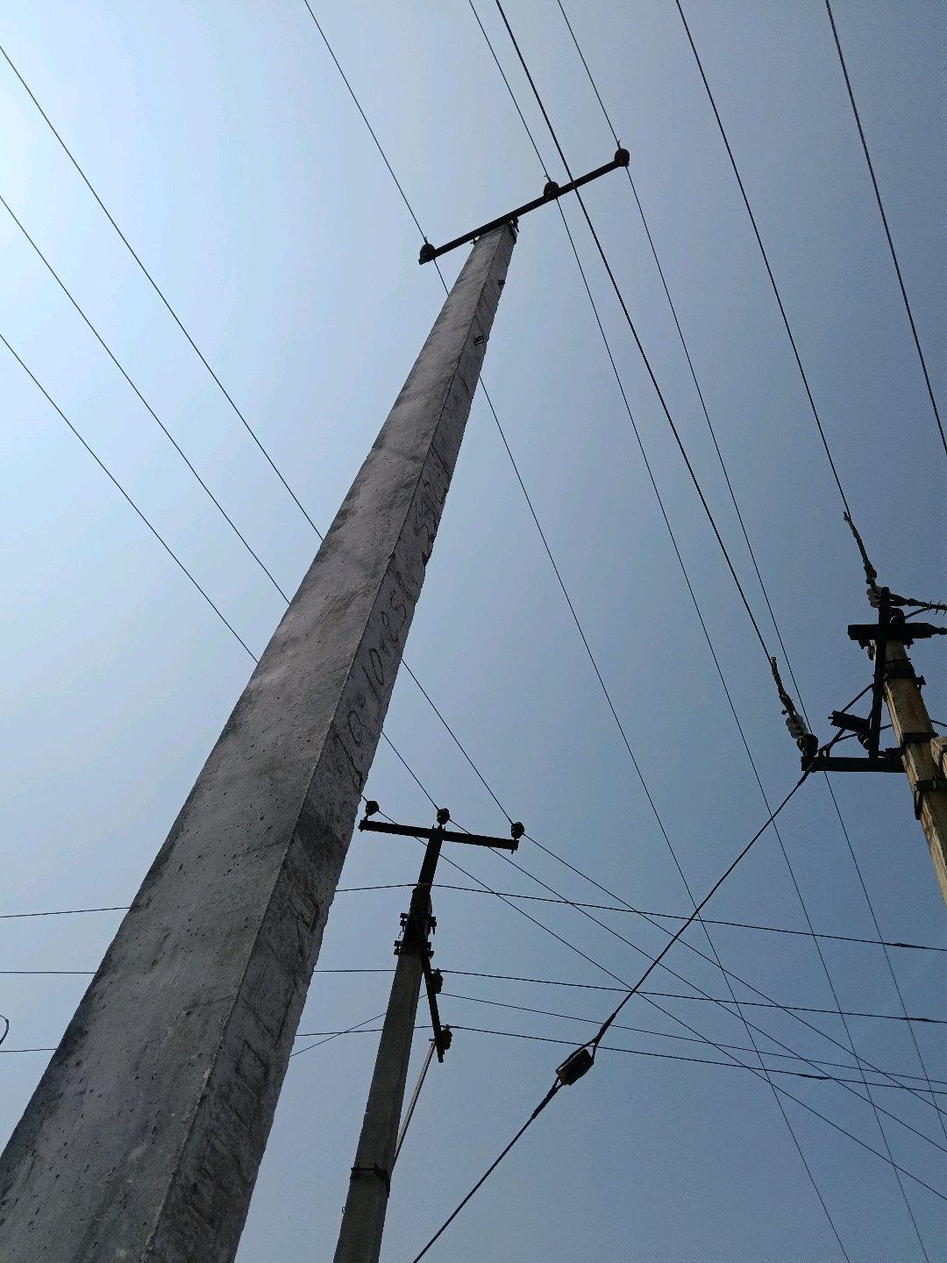{"0" "insulator", "1" "pole", "2" "crossarm", "3" "conductor", "4" "street_: (0, 149, 630, 1262), (333, 799, 524, 1262)
